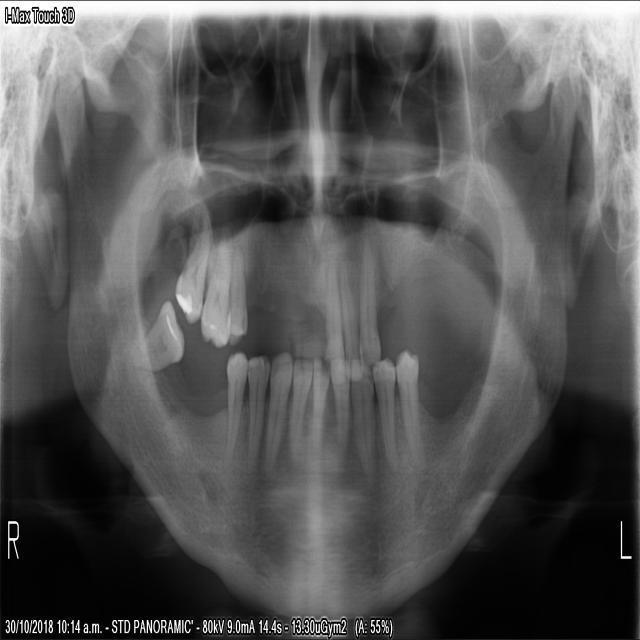LCD: (393, 345, 428, 480), (345, 352, 376, 497), (368, 354, 397, 481)
LCU: (355, 227, 382, 380)
LID: (327, 352, 350, 476), (307, 352, 329, 468)
LIU: (336, 249, 364, 385), (322, 238, 345, 383)
RID: (259, 340, 292, 485), (285, 354, 312, 457)
RMD: (129, 297, 184, 373)
RMU: (196, 223, 233, 351), (172, 213, 212, 326)
RPMD: (219, 347, 248, 473), (242, 347, 269, 478)
RPMU: (223, 242, 248, 348)
